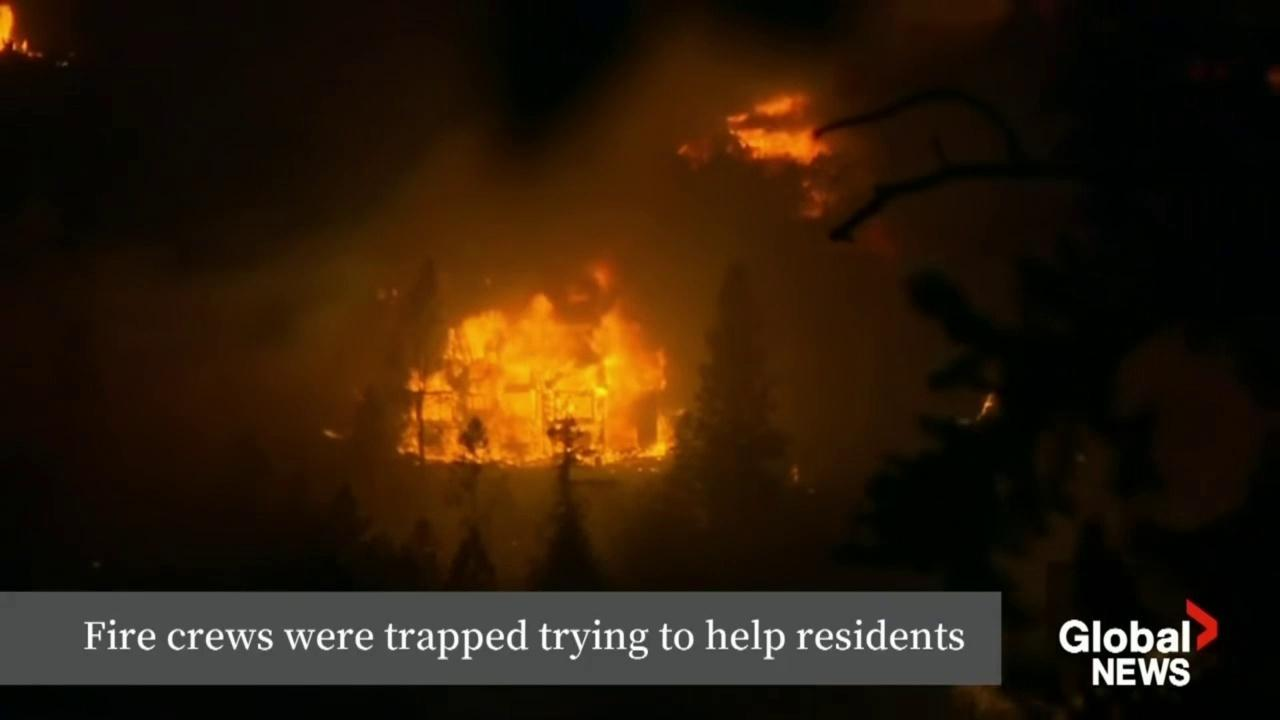fire: (396, 257, 686, 470), (715, 90, 901, 257), (0, 0, 49, 62), (972, 385, 1001, 424), (671, 140, 698, 163)
smoke: (110, 0, 1018, 575)
